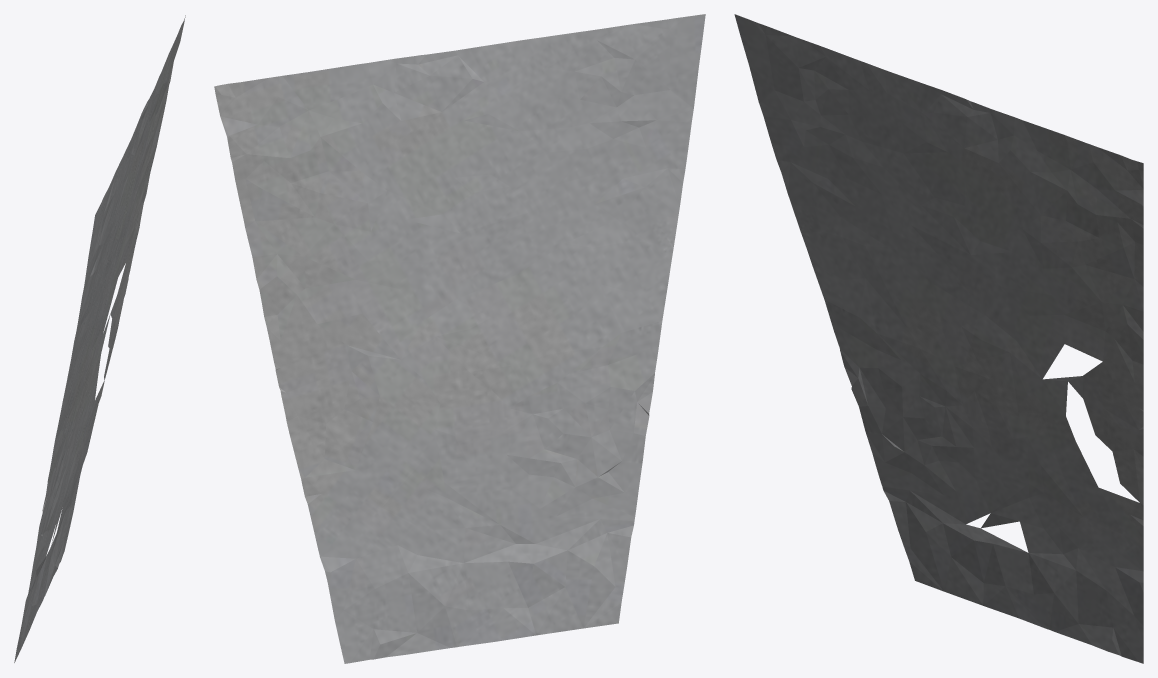
3 renders of one model, left to right at view 1: azimuth 30°, elevation 25°; view 2: azimuth 150°, elevation 25°; view 3: azimuth 270°, elevation 25°, orthographic. The views are drawn at different scales.
Size of the model in its own units: 0.4728 by 0.8374 by 0.5479.
Materials: 2 (2 with a texture image).
